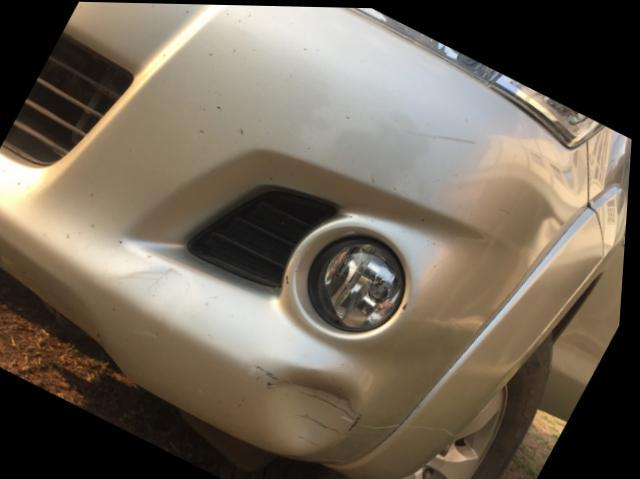dent: (273, 368, 369, 450)
